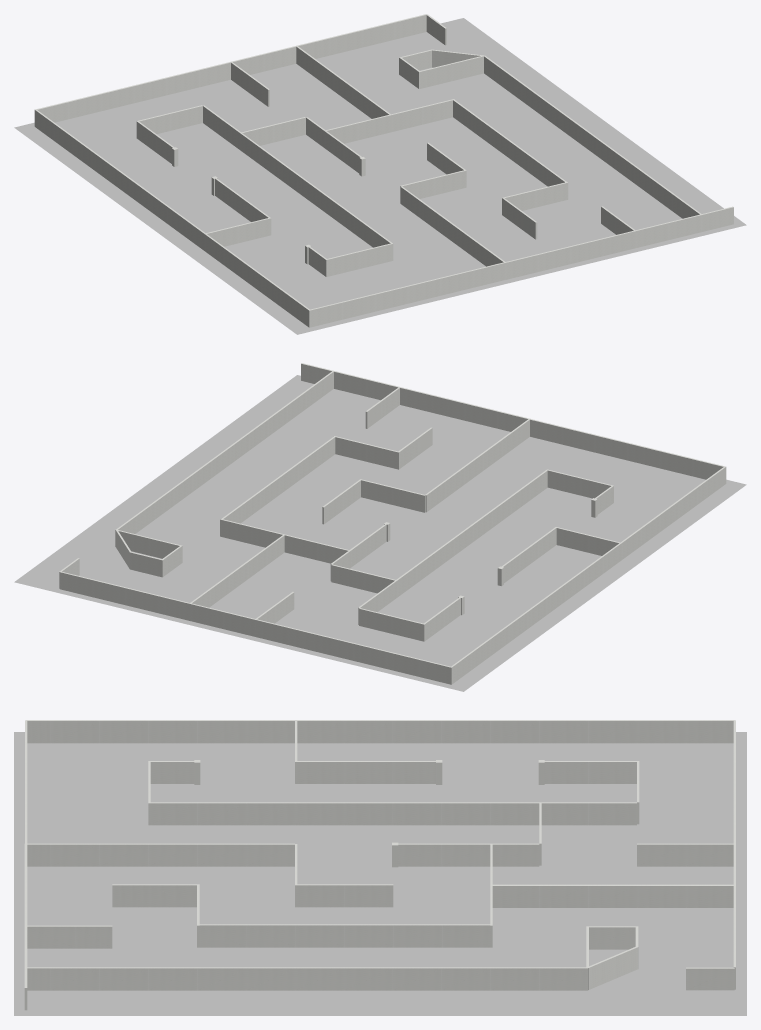
The model's file is mazeroom_large.dae.
The picture shows the model from 3 angles, top to bottom: view 1: azimuth 30°, elevation 25°; view 2: azimuth 150°, elevation 25°; view 3: azimuth 270°, elevation 25°; orthographic projection. The views are drawn at different scales.
Parts seen in each view (by area): view 1: Plane, Cube_021, Cube_095, Cube_003, Cube_017, Cube_055, Cube_069, Cube_015, Cube_001, Cube_040, Cube_070, Cube_002 (+23 smaller); view 2: Plane, Cube_129, Cube_008, Cube_051, Cube_056, Cube_069, Cube_002, Cube_074, Cube_094, Cube_131, Cube_016, Cube_017 (+22 smaller); view 3: Plane, Cube_042, Cube_024, Cube_027, Cube_028, Cube_046, Cube_047, Cube_050, Cube_053, Cube_065, Cube_066, Cube_067 (+63 smaller).
Boxes of the visible parts, bbox=[...] form: Plane: bbox=[14, 18, 746, 334]; Cube_021: bbox=[361, 22, 394, 47]; Cube_095: bbox=[407, 278, 440, 303]; Cube_003: bbox=[668, 214, 701, 240]; Cube_017: bbox=[263, 46, 296, 71]; Cube_055: bbox=[535, 182, 568, 207]; Cube_069: bbox=[133, 77, 166, 103]; Cube_015: bbox=[237, 218, 270, 243]; Cube_001: bbox=[635, 222, 668, 247]; Cube_040: bbox=[418, 63, 451, 89]; Cube_070: bbox=[166, 70, 199, 95]; Cube_002: bbox=[357, 115, 390, 140]; Plane: bbox=[14, 375, 746, 691]; Cube_129: bbox=[391, 616, 425, 641]; Cube_008: bbox=[464, 403, 497, 428]; Cube_051: bbox=[392, 487, 425, 512]; Cube_056: bbox=[366, 444, 399, 469]; Cube_069: bbox=[320, 635, 353, 660]; Cube_002: bbox=[284, 534, 317, 560]; Cube_074: bbox=[418, 659, 451, 684]; Cube_094: bbox=[561, 427, 594, 452]; Cube_131: bbox=[547, 470, 580, 495]; Cube_016: bbox=[223, 611, 256, 636]; Cube_017: bbox=[190, 603, 223, 628]; Plane: bbox=[14, 732, 746, 1015]; Cube_042: bbox=[588, 947, 637, 989]; Cube_024: bbox=[490, 967, 539, 990]; Cube_027: bbox=[392, 967, 441, 990]; Cube_028: bbox=[441, 967, 490, 990]; Cube_046: bbox=[393, 924, 442, 947]; Cube_047: bbox=[344, 924, 393, 947]; Cube_050: bbox=[295, 924, 344, 947]; Cube_053: bbox=[246, 924, 295, 947]; Cube_065: bbox=[148, 967, 197, 990]; Cube_066: bbox=[99, 967, 148, 990]; Cube_067: bbox=[50, 967, 99, 990].
Size of the model in its own units: 5.5 by 6 by 0.2043.
